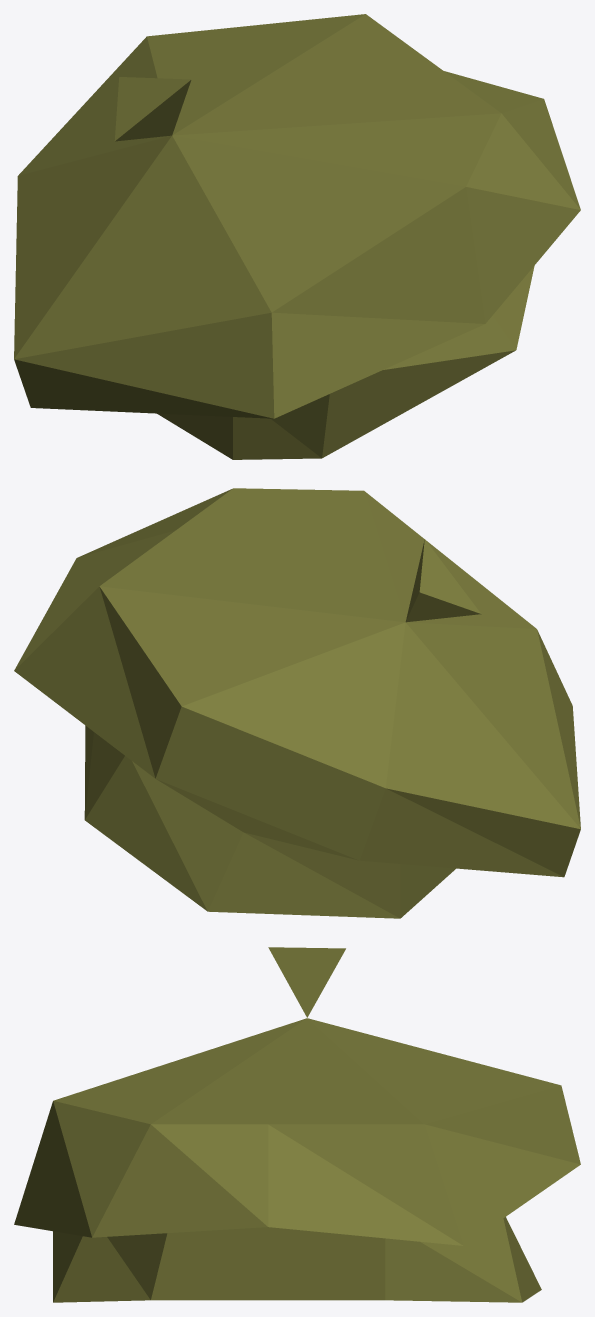
File: npc_chat_silk_merchant_1.obj
3 renders of one model, top to bottom at view 1: azimuth 30°, elevation 25°; view 2: azimuth 150°, elevation 25°; view 3: azimuth 270°, elevation 25°, orthographic. The views are drawn at different scales.
Bounding box in the file's own units: 0.9688 × 0.5938 × 0.9062.
